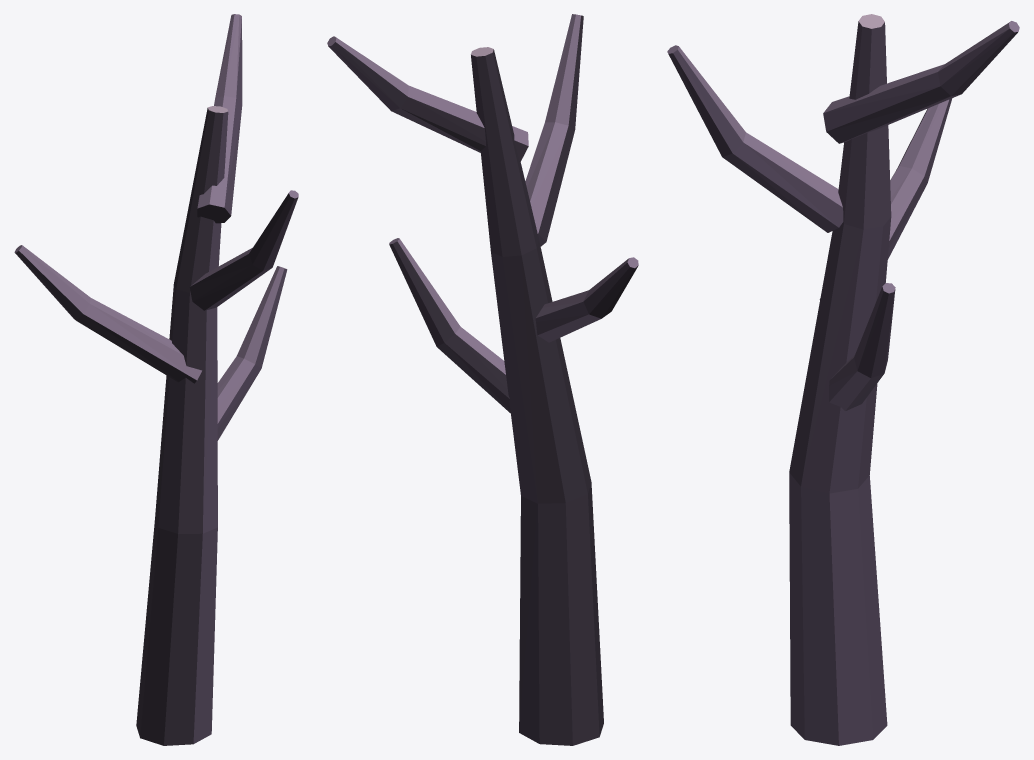
The model's file is TW_TREE_DEAD_FORK_B_LOD0.glb.
3 views of the same model, side by side, from view 1: azimuth 30°, elevation 25°; view 2: azimuth 150°, elevation 25°; view 3: azimuth 270°, elevation 25° (orthographic). The views are drawn at different scales.
Visible parts, largest first — view 1: TW_TREE_DEAD_FORK_B_LOD0; view 2: TW_TREE_DEAD_FORK_B_LOD0; view 3: TW_TREE_DEAD_FORK_B_LOD0.
Boxes of the visible parts, left/top/right/bottom form: TW_TREE_DEAD_FORK_B_LOD0: left=14, top=14, right=298, bottom=745; TW_TREE_DEAD_FORK_B_LOD0: left=327, top=14, right=638, bottom=745; TW_TREE_DEAD_FORK_B_LOD0: left=667, top=14, right=1019, bottom=745.
Size of the model in its own units: 1.32 by 3.17 by 1.29.
1 material, 1 textured.
